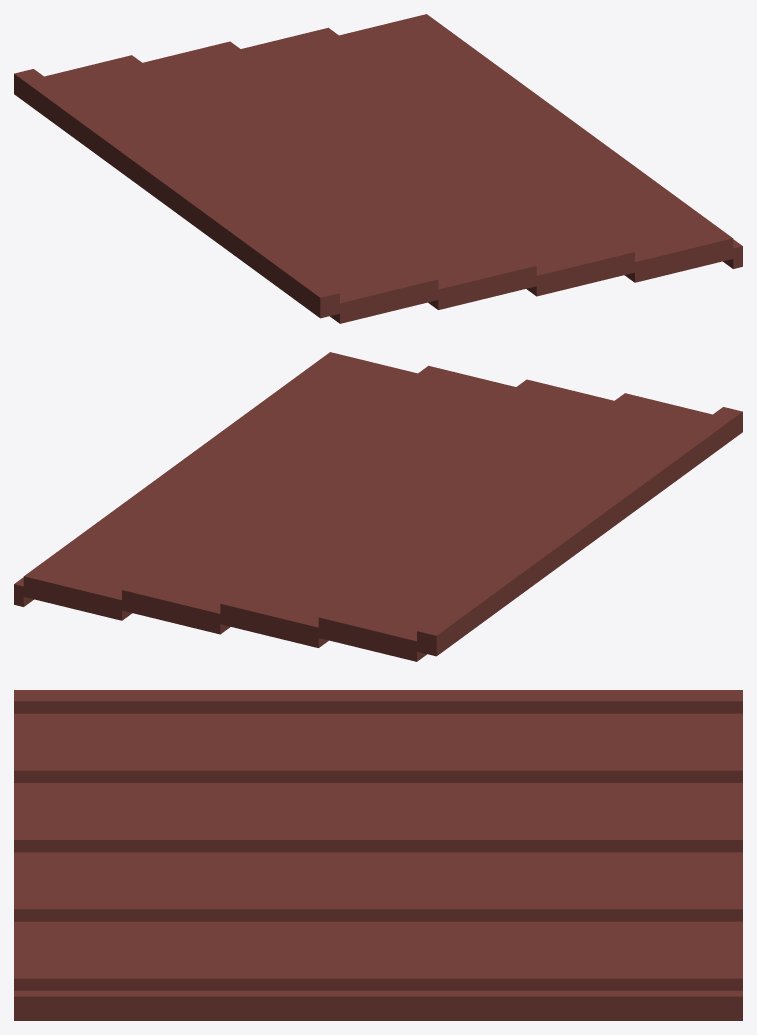
File: estate_bonnet.glb
3 renders of one model, top to bottom at view 1: azimuth 30°, elevation 25°; view 2: azimuth 150°, elevation 25°; view 3: azimuth 270°, elevation 25°, orthographic. The views are drawn at different scales.
Visible parts, largest first — view 1: body:compound; view 2: body:compound; view 3: body:compound.
Boxes of the visible parts, box(x1,y1,x2,y2) form: body:compound: box(14, 14, 742, 323); body:compound: box(14, 352, 742, 661); body:compound: box(14, 690, 742, 1020).
Size of the model in its own units: 1.34 by 0.2188 by 1.69.
